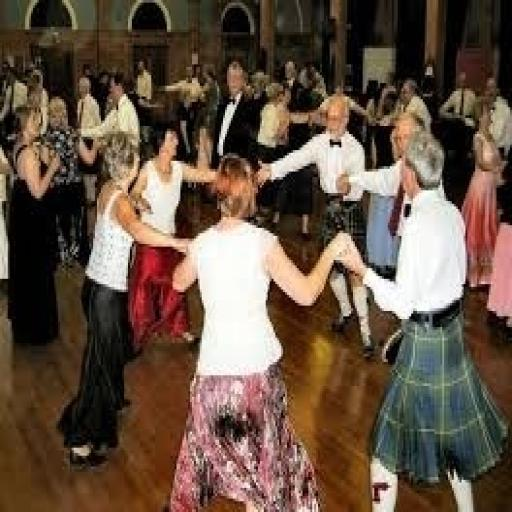dancing: (167, 150, 359, 509), (336, 126, 510, 509), (56, 126, 196, 474)
